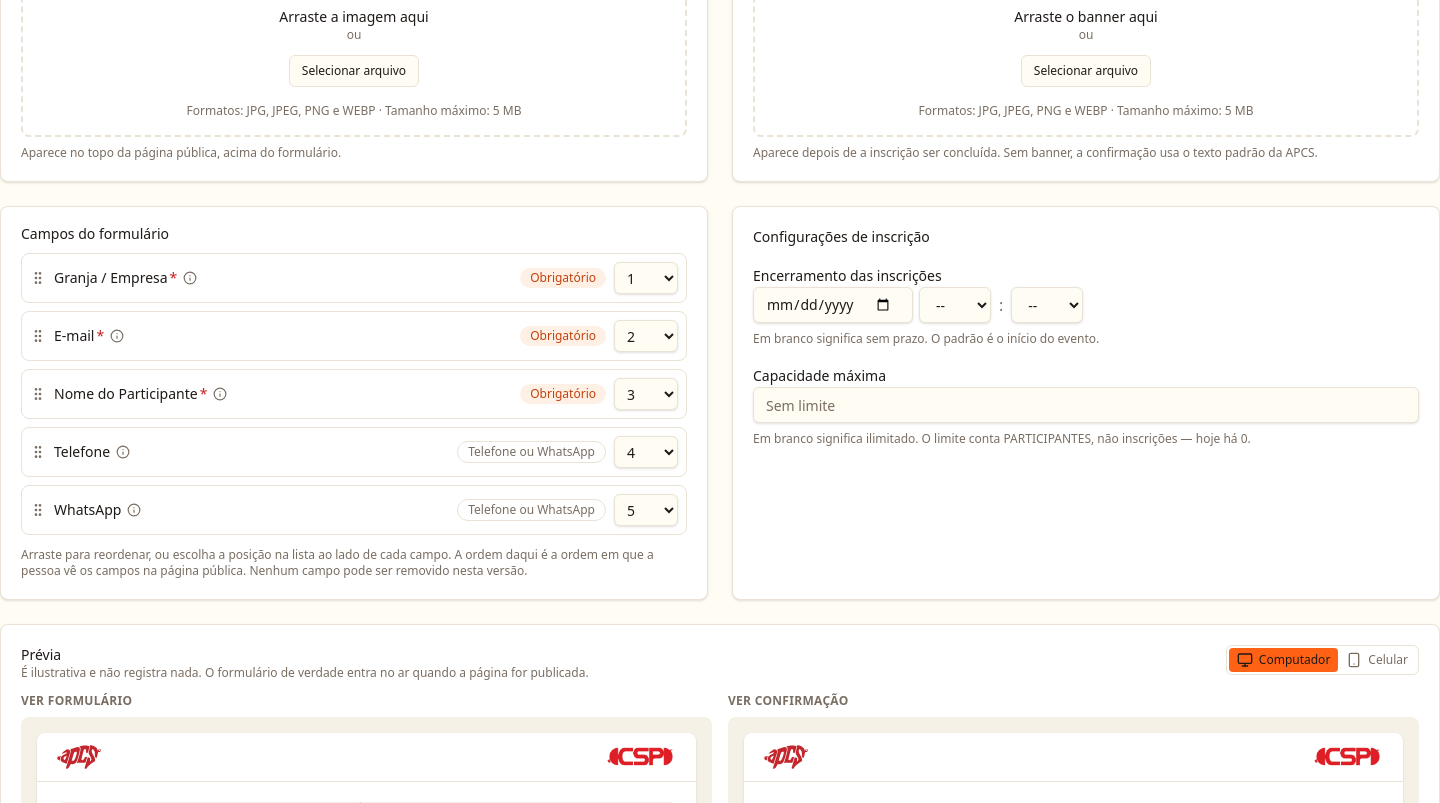
Test: a capacidade (§16) › aceita só dígitos
(page scrolled)
In the field labelled "Capacidade máxima": (1086, 405) [753,387,1419,423], type "100 pessoas"
(page scrolled)
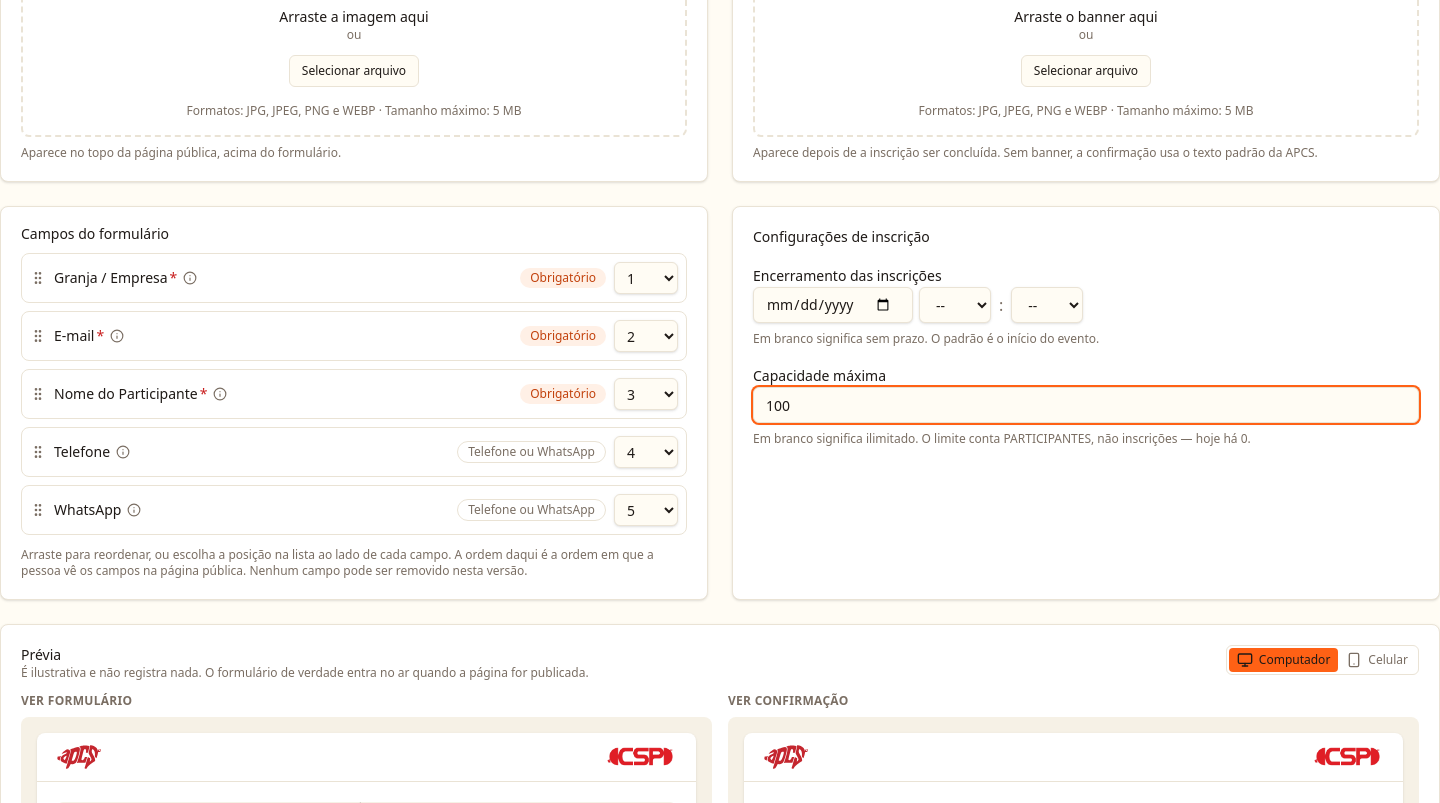
Expected: the field labelled "Capacidade máxima" holds "100", [753,387,1419,423]
